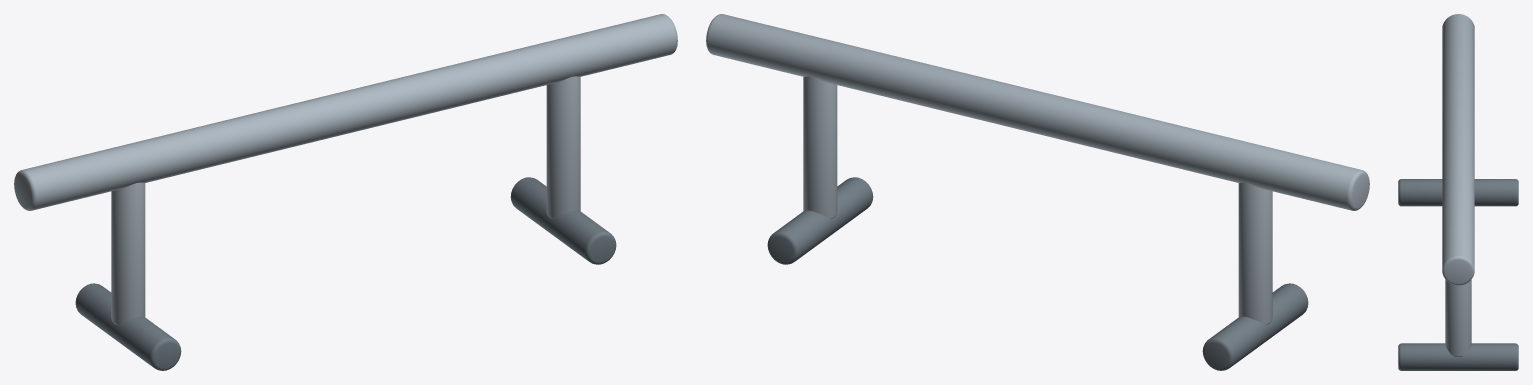
Rendered from rail.glb.
3 views of the same model, side by side, from view 1: azimuth 30°, elevation 25°; view 2: azimuth 150°, elevation 25°; view 3: azimuth 270°, elevation 25° (orthographic). The views are drawn at different scales.
Visible parts, largest first — view 1: rail_textured_mesh; view 2: rail_textured_mesh; view 3: rail_textured_mesh.
Boxes of the visible parts, <box> form: rail_textured_mesh: <box>14,14,677,370</box>; rail_textured_mesh: <box>706,14,1369,370</box>; rail_textured_mesh: <box>1398,14,1518,370</box>.
Size of the model in its own units: 4.6 by 1.34 by 0.96.
Materials: 1 (1 with a texture image).
